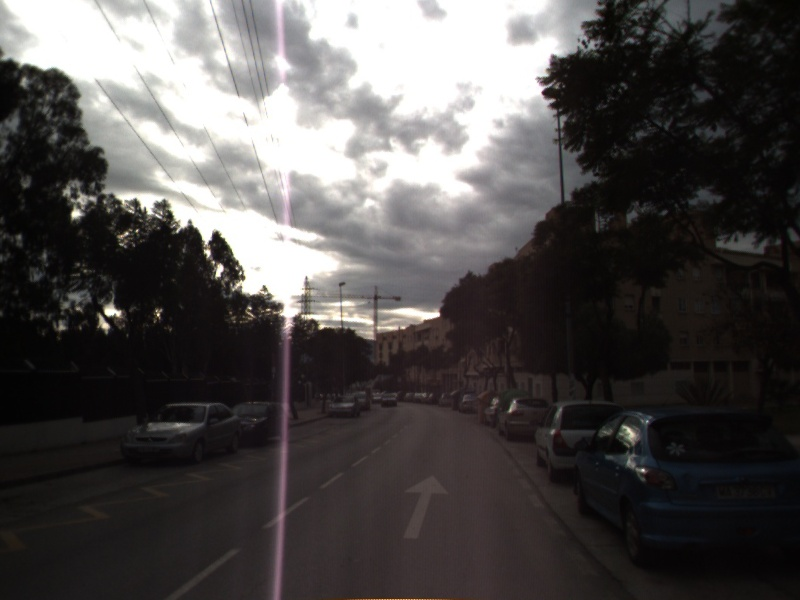STRAIGHT: (401, 472, 452, 541)
